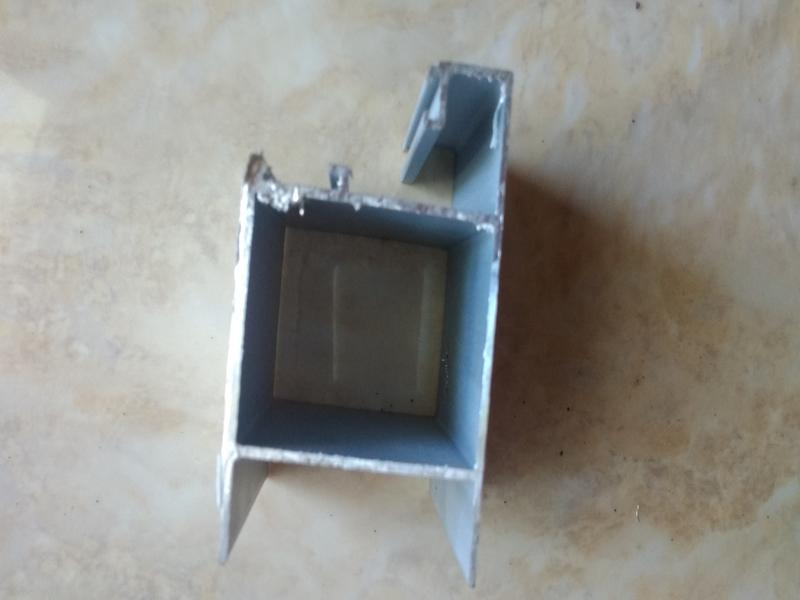Aluminium_2: (170, 35, 518, 594)
